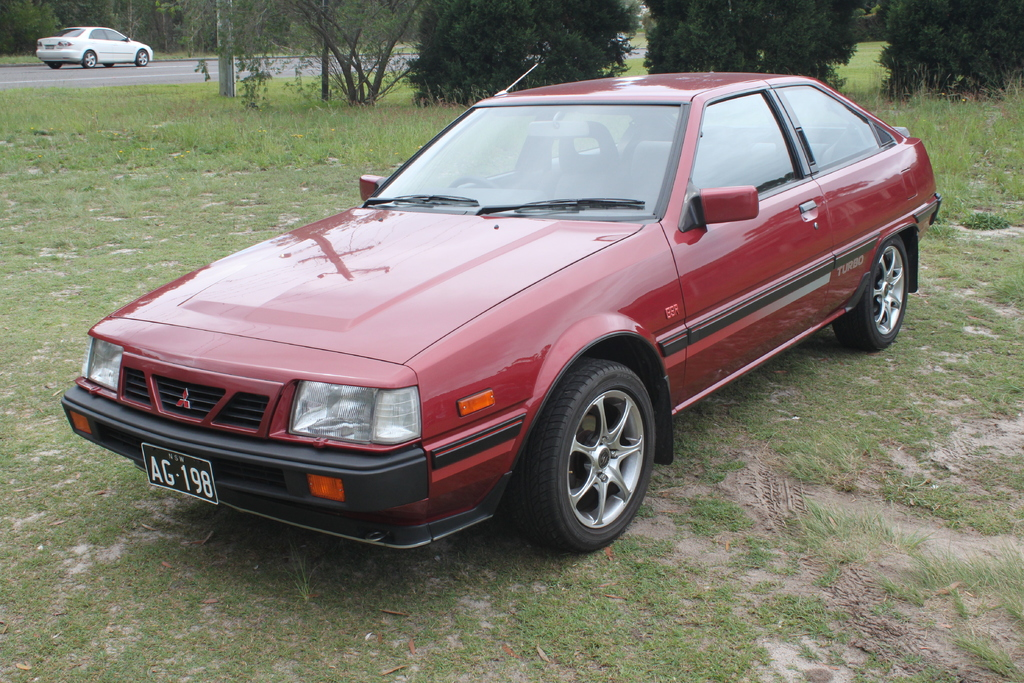Car: (59, 62, 939, 556), (38, 22, 152, 68)
